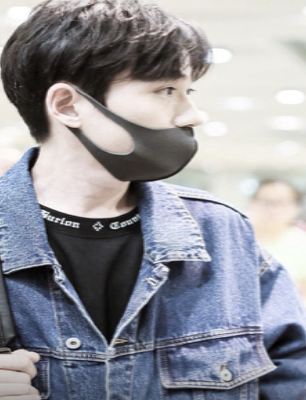mask_weared_incorrect: (87, 72, 204, 182)
